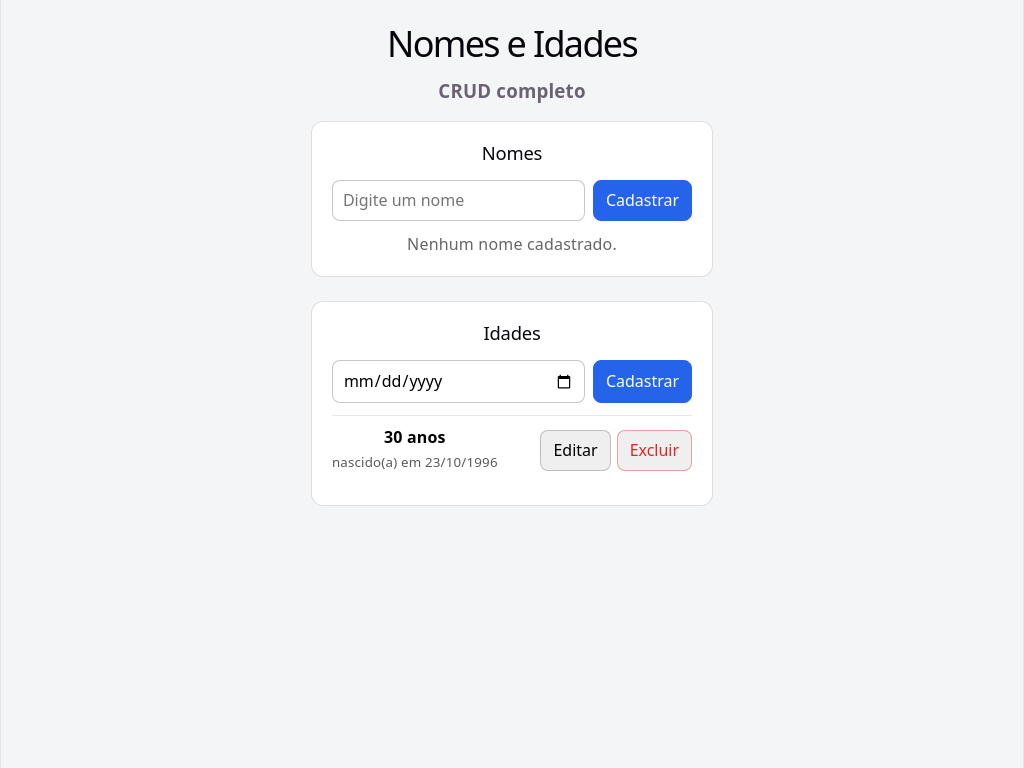
Test case: idades (CRUD) › exclui uma data de nascimento
Expected: the text "30 anos" is shown, [384,426,446,448]
Click the button "Excluir".
click(654, 450)  # box [617,430,692,471]
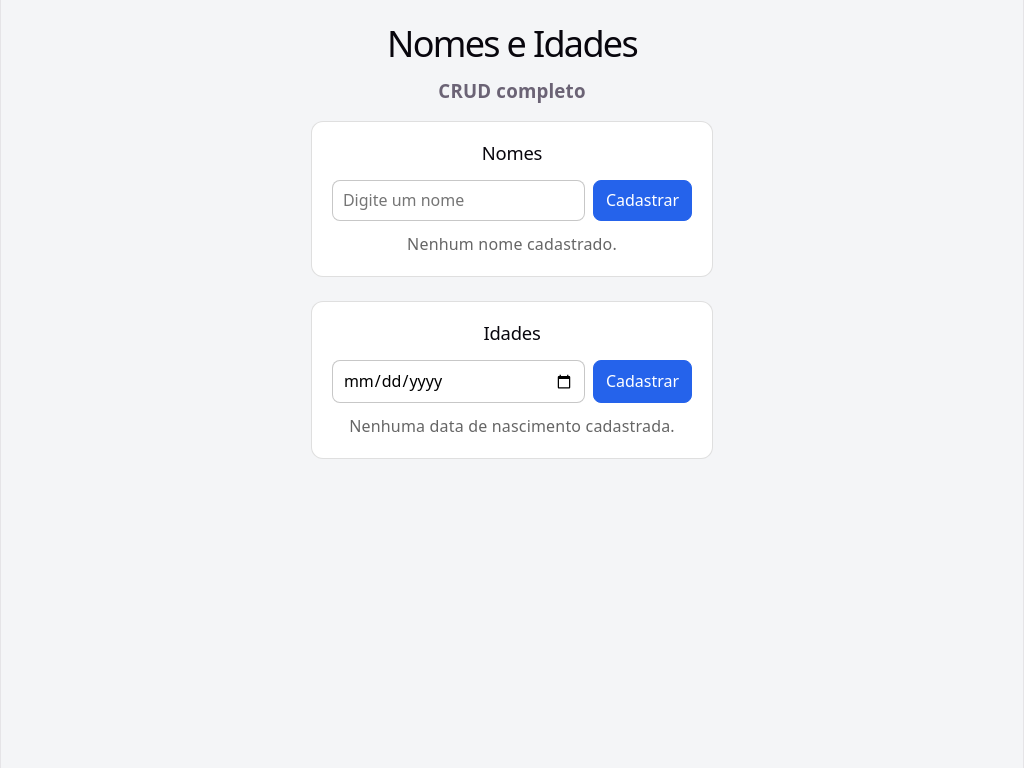
Now the text "Nenhuma data de nascimento cadastrada." is shown, box [332,415,692,438]
